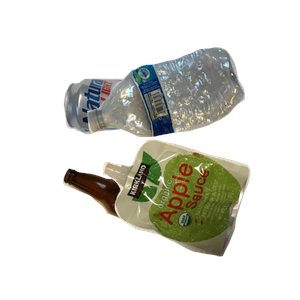glass: (60, 166, 241, 300)
metal: (61, 75, 231, 202)
plastic: (85, 45, 300, 175)
trash: (100, 137, 300, 300)
